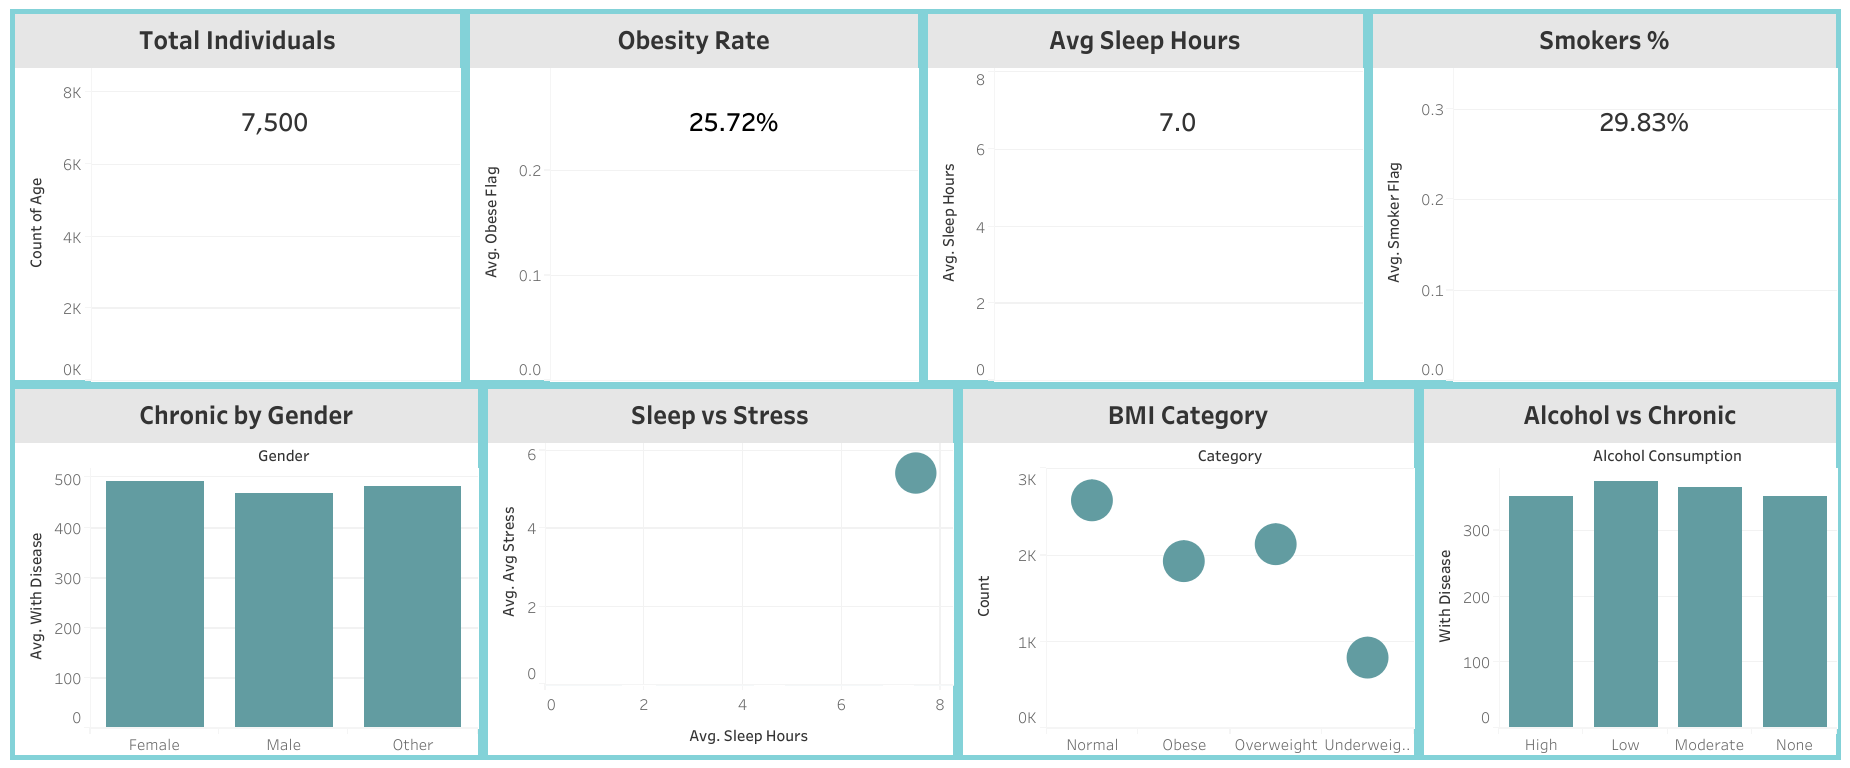

Layout of this report page (visuals, bound fields, positions):
{"tool":"tableau","page":{"name":"Health Dashboard","canvas":[1000,1000],"units":"permille","ordinal":0},"visuals":[{"type":"worksheet","title":"Total Individuals","mark":"Text","rows":["Age"],"box":[5.4,11.2,254.7,488.8]},{"type":"worksheet","title":"Obesity Rate","mark":"Text","rows":["Calculation_1075515913086672896"],"box":[260.1,11.2,257.1,488.8]},{"type":"worksheet","title":"Avg Sleep Hours","mark":"Text","rows":["Sleep_Hours"],"box":[517.2,11.2,248.6,488.8]},{"type":"worksheet","title":"Smokers %","mark":"Text","rows":["Calculation_1075515913088741377"],"box":[765.8,11.2,228.7,488.8]},{"type":"worksheet","title":"Chronic by Gender","mark":"Bar","rows":["with_disease"],"cols":["gender"],"box":[5.4,500,255,488.8]},{"type":"worksheet","title":"Sleep vs Stress","mark":"Line","rows":["avg_stress"],"cols":["sleep_hours"],"box":[260.4,500,256.8,488.8]},{"type":"worksheet","title":"BMI Category","mark":"Pie","rows":["count"],"cols":["category"],"box":[517.2,500,249,488.8]},{"type":"worksheet","title":"Alcohol vs Chronic","mark":"Bar","rows":["with_disease"],"cols":["alcohol_consumption"],"box":[766.1,500,228.5,488.8]}]}

Visuals, with their boxes on the dashboard's canvas, which has no fixed pixel size, in thousandths of its width and height (x1, y1, x2, y2). These are canvas units, not pixel positions in the 1850x768 screenshot, which may show the page scaled, cropped or inside an application window:
"Total Individuals" worksheet (Text marks): BBox(5, 11, 260, 500)
"Obesity Rate" worksheet (Text marks): BBox(260, 11, 517, 500)
"Avg Sleep Hours" worksheet (Text marks): BBox(517, 11, 766, 500)
"Smokers %" worksheet (Text marks): BBox(766, 11, 994, 500)
"Chronic by Gender" worksheet (Bar marks): BBox(5, 500, 260, 989)
"Sleep vs Stress" worksheet (Line marks): BBox(260, 500, 517, 989)
"BMI Category" worksheet (Pie marks): BBox(517, 500, 766, 989)
"Alcohol vs Chronic" worksheet (Bar marks): BBox(766, 500, 995, 989)
